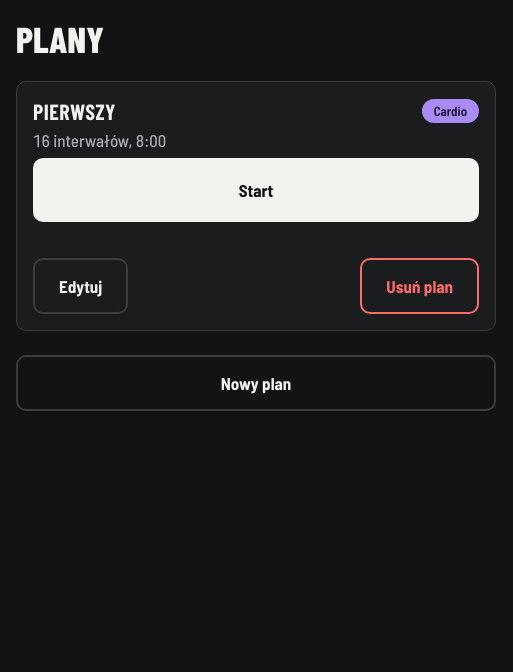
Test: cardio plans through the app › "Anuluj" in the cardio editor returns to the list and the stored plan stays
Click the button "Edytuj" at (81, 286), box [33,258,128,314]
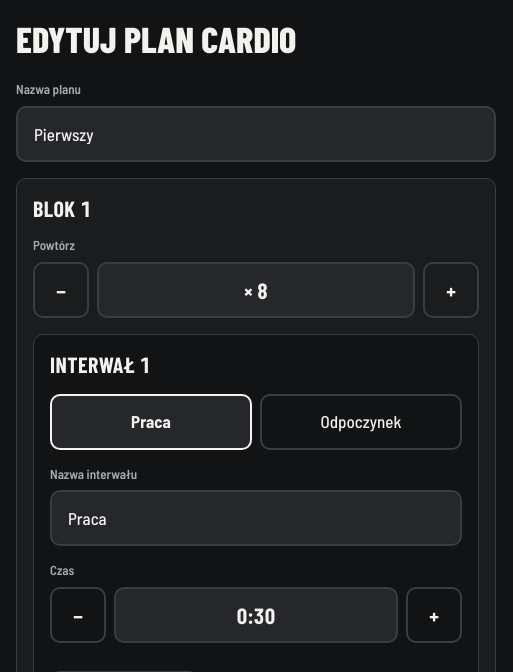
Replace the text in the field labelled "Nazwa planu" with "Inna" at (256, 134), box [16,106,496,162]
(page scrolled)
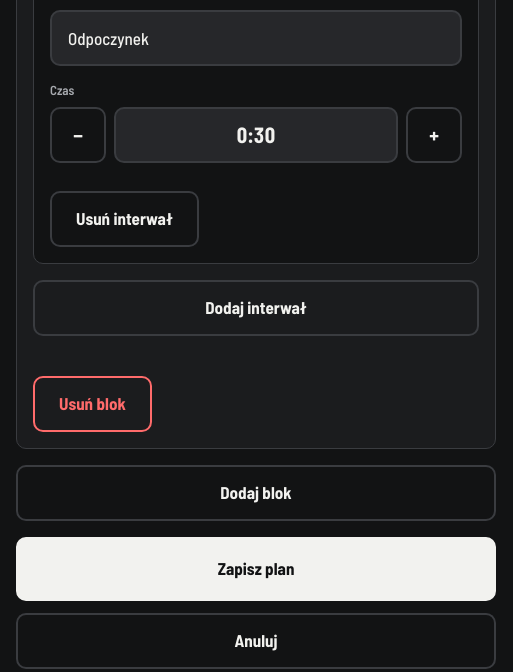
Click the button "Anuluj" at (256, 640), box [16,612,496,668]
(page scrolled)
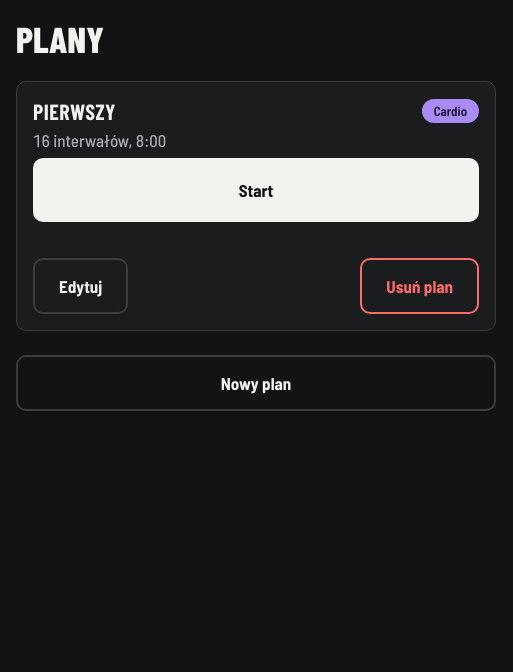
Result: the heading "Plany" is shown at [16,17,104,60]
Result: the list item "Pierwszy Cardio 16 interwałów, 8:00 Start Edytuj Usuń plan" is shown at [16,81,496,331]
